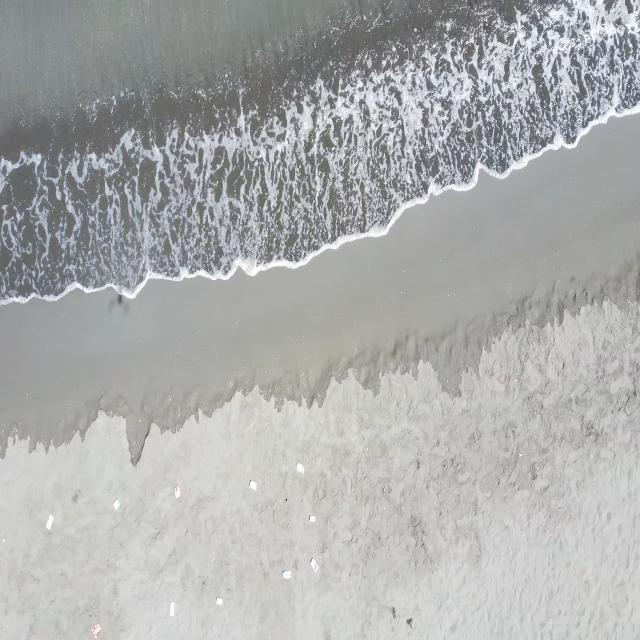retort-pouch: (44, 514, 55, 532), (91, 622, 102, 639), (168, 601, 177, 618), (172, 484, 182, 499), (295, 462, 305, 476), (112, 498, 121, 511), (310, 558, 318, 572), (282, 569, 292, 580), (249, 480, 258, 490), (214, 596, 223, 606), (308, 514, 316, 524)
